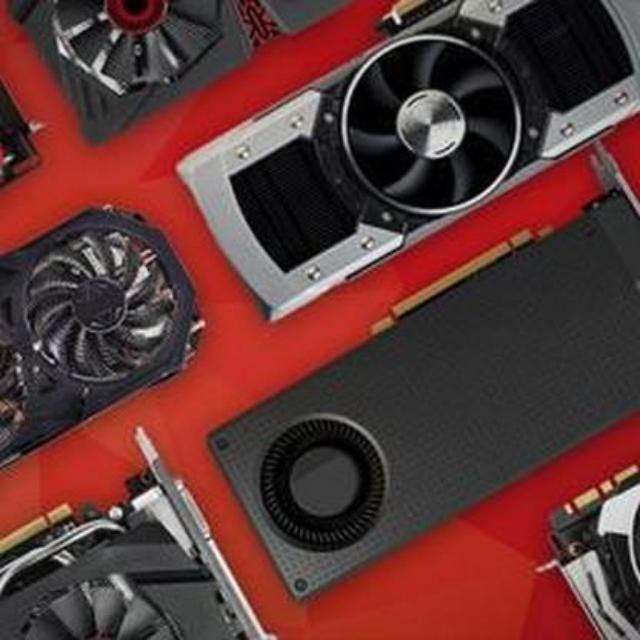GPU: (204, 143, 638, 625), (178, 0, 640, 343), (0, 191, 194, 474), (0, 0, 402, 134)
